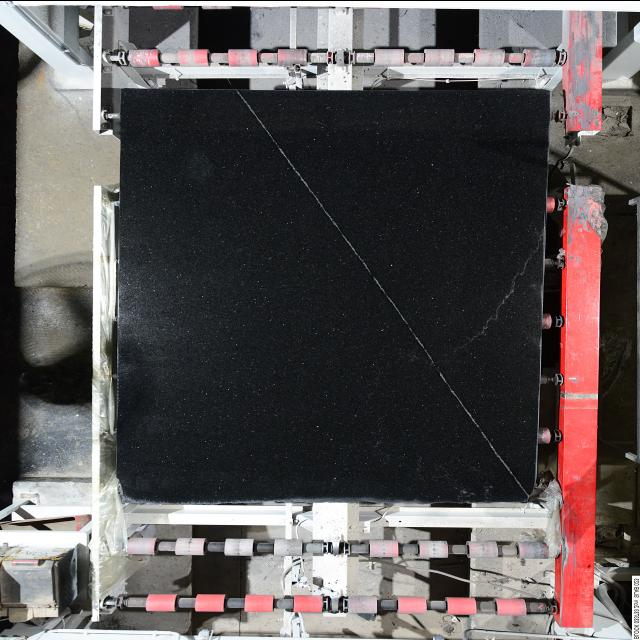chapa: (117, 89, 550, 502)
